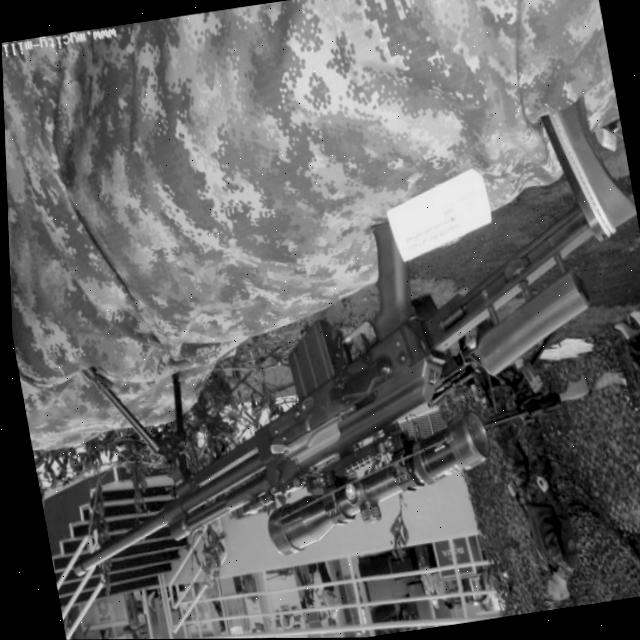firearm: (3, 84, 640, 589)
